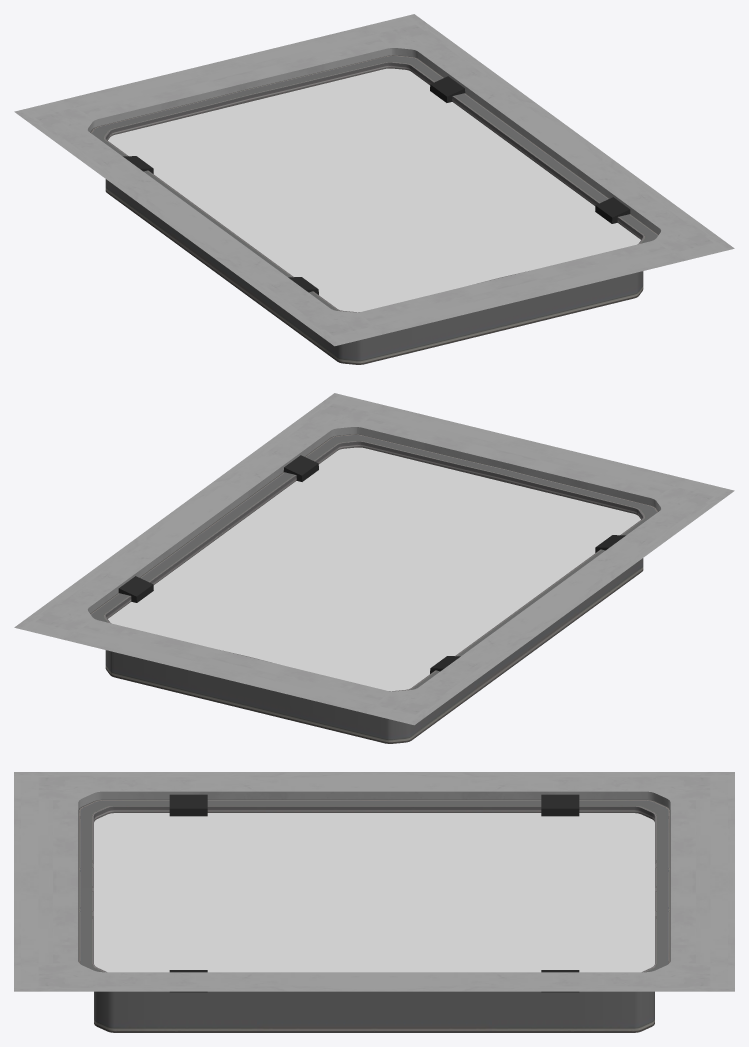
Rendered from Platform_Window_Thin.glb.
The picture shows the model from 3 angles, top to bottom: view 1: azimuth 30°, elevation 25°; view 2: azimuth 150°, elevation 25°; view 3: azimuth 270°, elevation 25°; orthographic projection. The views are drawn at different scales.
Visible parts, largest first — view 1: Platform_Window_Thin; view 2: Platform_Window_Thin; view 3: Platform_Window_Thin.
Boxes of the visible parts, x1,y1,x2,y2 form: Platform_Window_Thin: (14,14,734,364); Platform_Window_Thin: (14,393,734,743); Platform_Window_Thin: (14,772,734,1032).
Size of the model in its own units: 2.88 by 0.4131 by 4.
4 materials, 3 textured.
